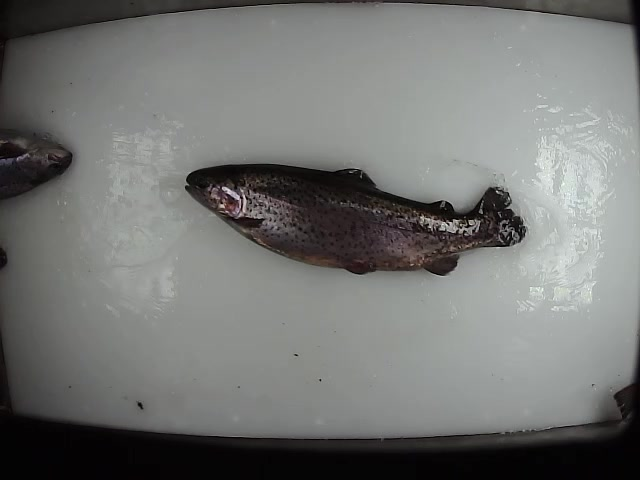fish: (183, 162, 530, 281), (1, 127, 74, 204)
